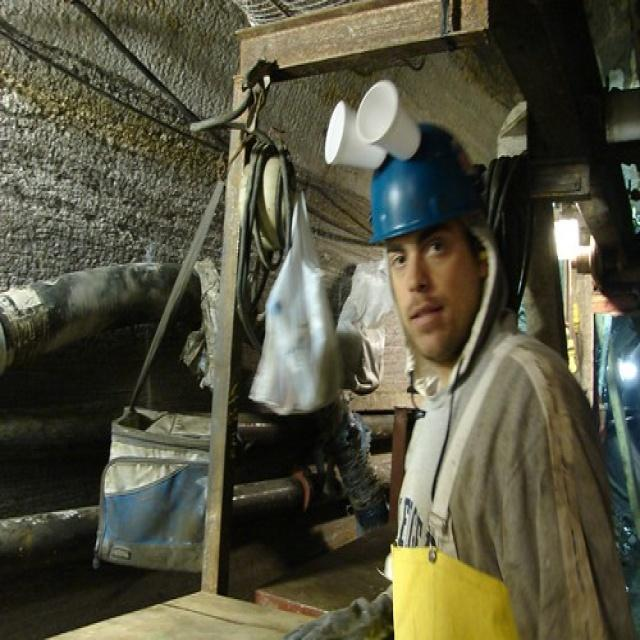helmet: (369, 164, 485, 332)
